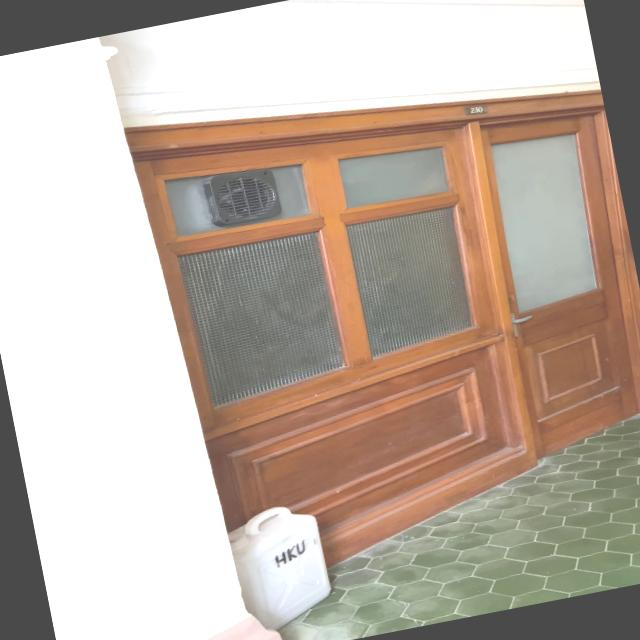room230: (463, 102, 490, 119)
